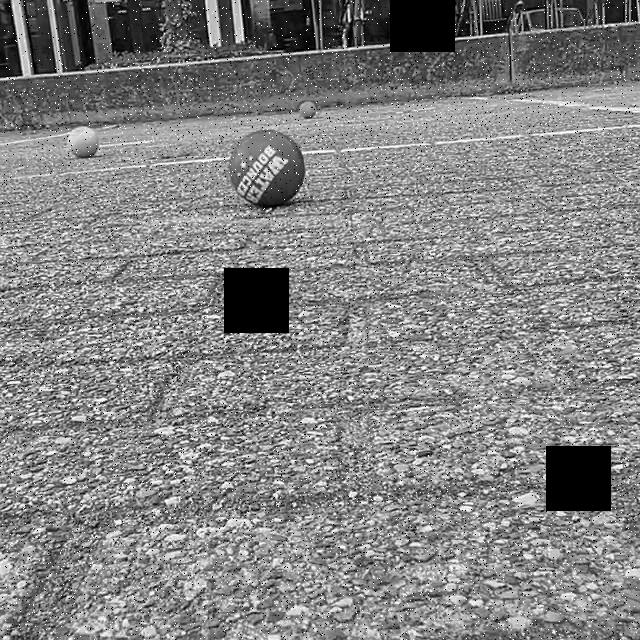ball: (64, 124, 102, 160), (295, 97, 319, 122)
